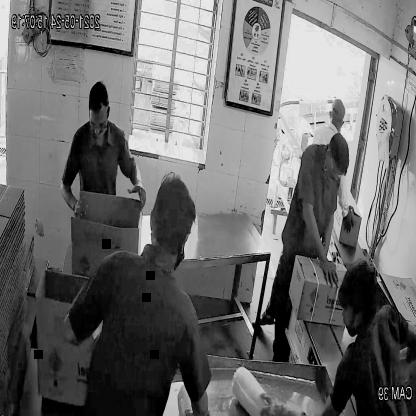goggles: (86, 114, 111, 134)
